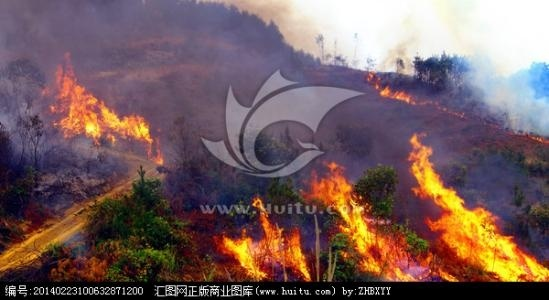fire: (217, 141, 539, 282), (45, 56, 167, 163), (220, 196, 311, 283), (367, 73, 467, 113)
